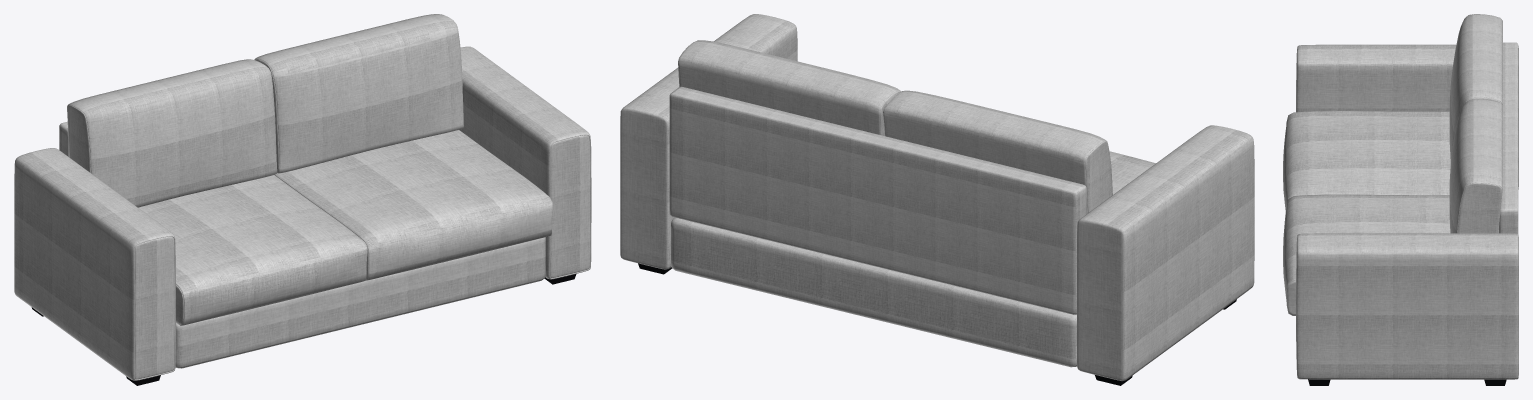
The model's file is sala.obj.
The picture shows the model from 3 angles, left to right: view 1: azimuth 30°, elevation 25°; view 2: azimuth 150°, elevation 25°; view 3: azimuth 270°, elevation 25°; orthographic projection. The views are drawn at different scales.
Parts seen in each view (by area): view 1: sala:Frame_bottom2; view 2: sala:Frame_bottom2; view 3: sala:Frame_bottom2.
Boxes of the visible parts, x1=… form: sala:Frame_bottom2: x1=14, y1=14, x2=591, y2=385; sala:Frame_bottom2: x1=620, y1=14, x2=1254, y2=385; sala:Frame_bottom2: x1=1283, y1=14, x2=1518, y2=385.
Bounding box in the file's own units: 3.69 × 1.57 × 1.76.
